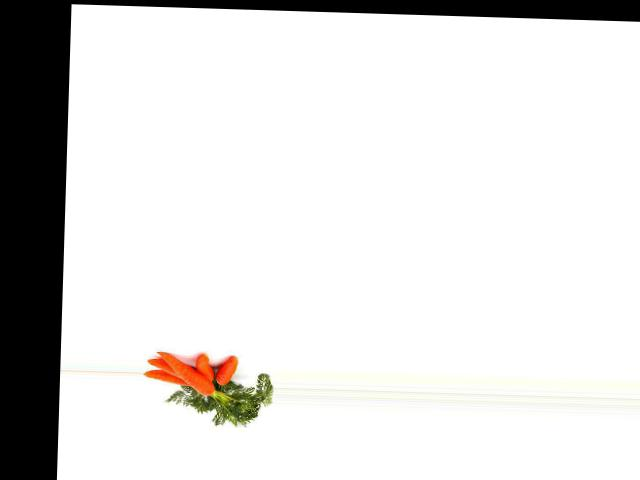carrot: (157, 348, 224, 400)
